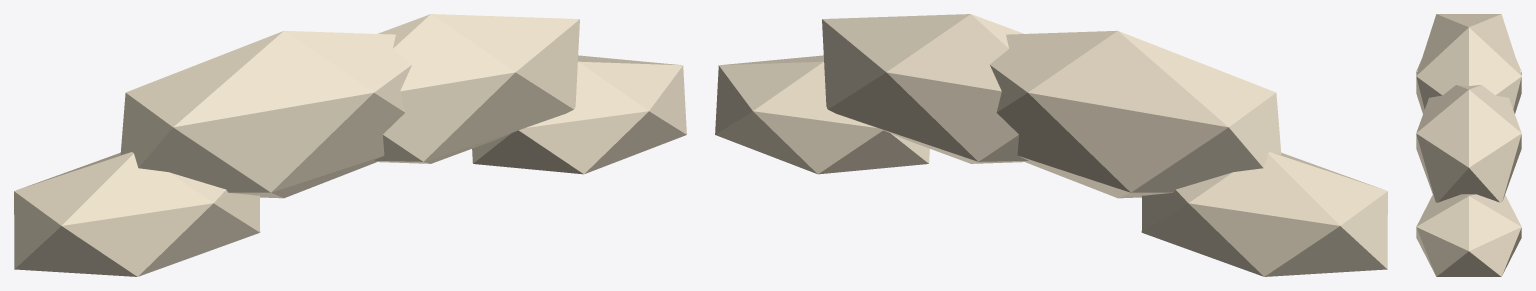
File: sf4_cloud_bank.glb
3 views of the same model, side by side, from view 1: azimuth 30°, elevation 25°; view 2: azimuth 150°, elevation 25°; view 3: azimuth 270°, elevation 25° (orthographic). The views are drawn at different scales.
Visible parts, largest first — view 1: sf4_cloud_bank__sf3-warm-ivory; view 2: sf4_cloud_bank__sf3-warm-ivory; view 3: sf4_cloud_bank__sf3-warm-ivory.
Part boxes in pixels (x1,y1,x2,y2): sf4_cloud_bank__sf3-warm-ivory: [14, 14, 686, 276]; sf4_cloud_bank__sf3-warm-ivory: [715, 14, 1387, 276]; sf4_cloud_bank__sf3-warm-ivory: [1416, 14, 1521, 276].
Size of the model in its own units: 13.65 by 4.07 by 2.72.
